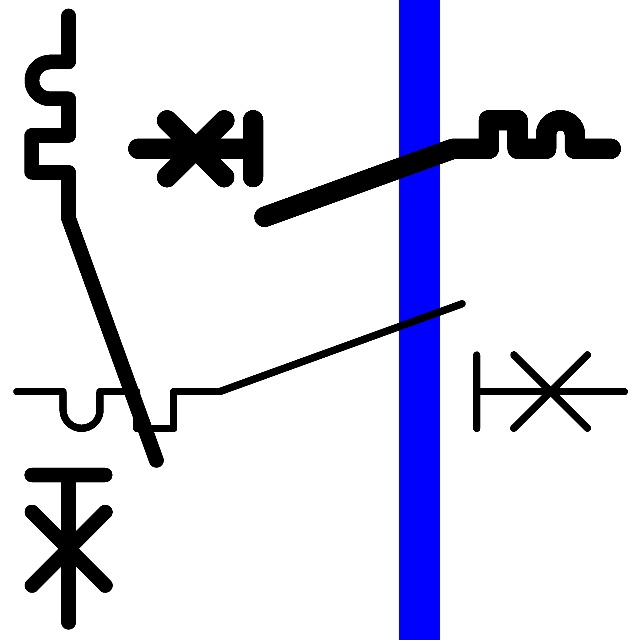interruptor_termomagnetico: (1, 288, 640, 444), (16, 0, 172, 638), (126, 108, 623, 229)
